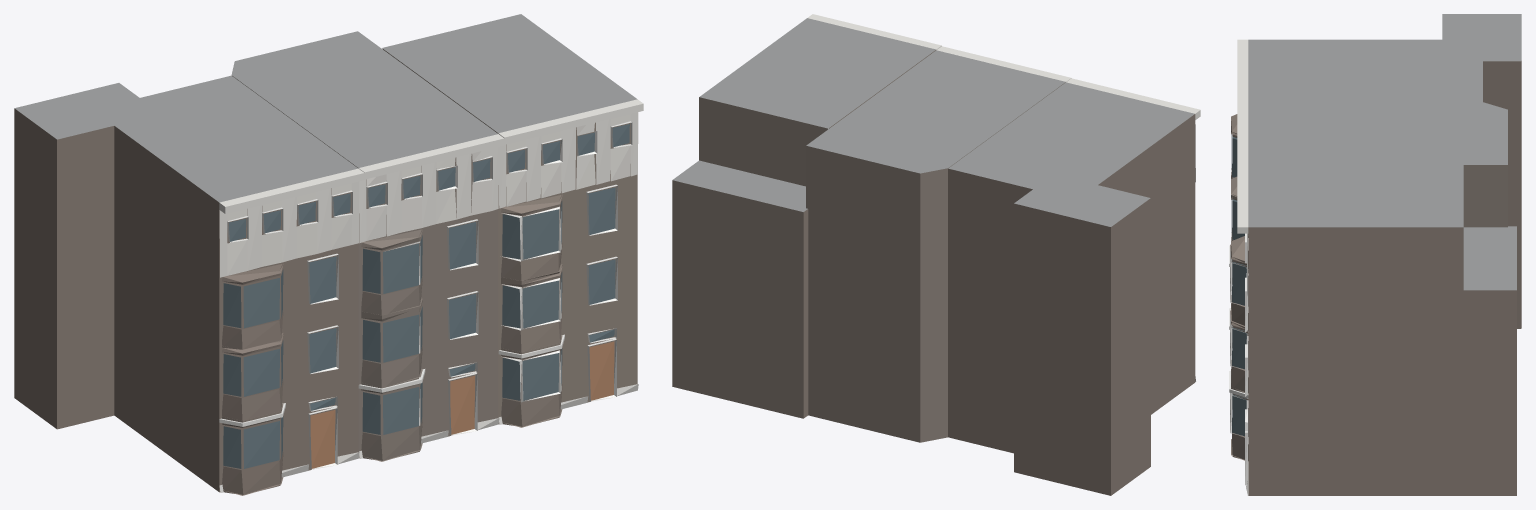
Rendered from chunk-face-hoendiep-5-35-r1.lod2.glb.
The picture shows the model from 3 angles, left to right: view 1: azimuth 30°, elevation 25°; view 2: azimuth 150°, elevation 25°; view 3: azimuth 270°, elevation 25°; orthographic projection. The views are drawn at different scales.
Parts seen in each view (by area): view 1: lod2; view 2: lod2; view 3: lod2.
Part boxes in pixels (x1,y1,x2,y2): lod2: [14, 14, 643, 495]; lod2: [672, 14, 1200, 495]; lod2: [1229, 14, 1521, 495].
Bounding box in the file's own units: 20.83 × 12.18 × 12.
